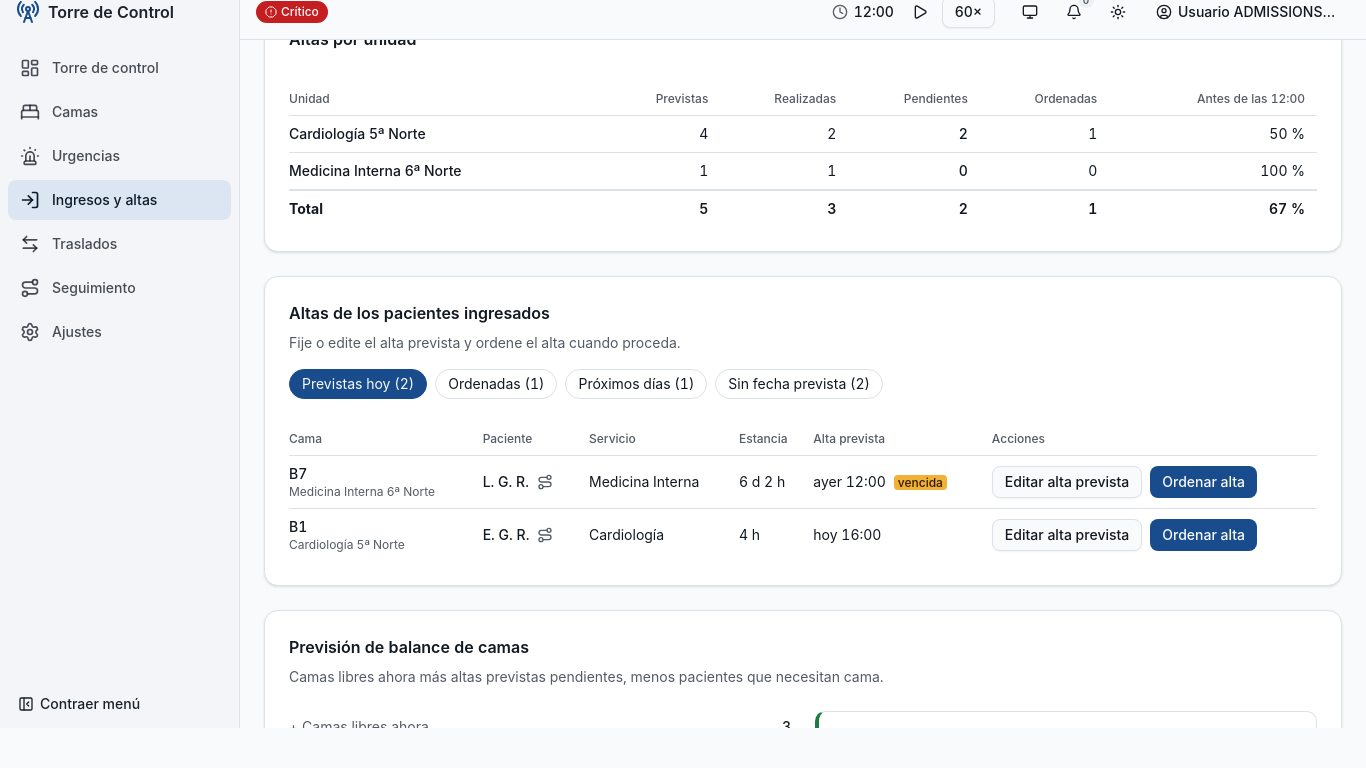
Test: discharge worklist (head) › sets an expected discharge from the sheet, as the user
(page scrolled)
Click the tab "Sin fecha prevista (2)".
click(799, 384)  # box [715, 369, 883, 399]
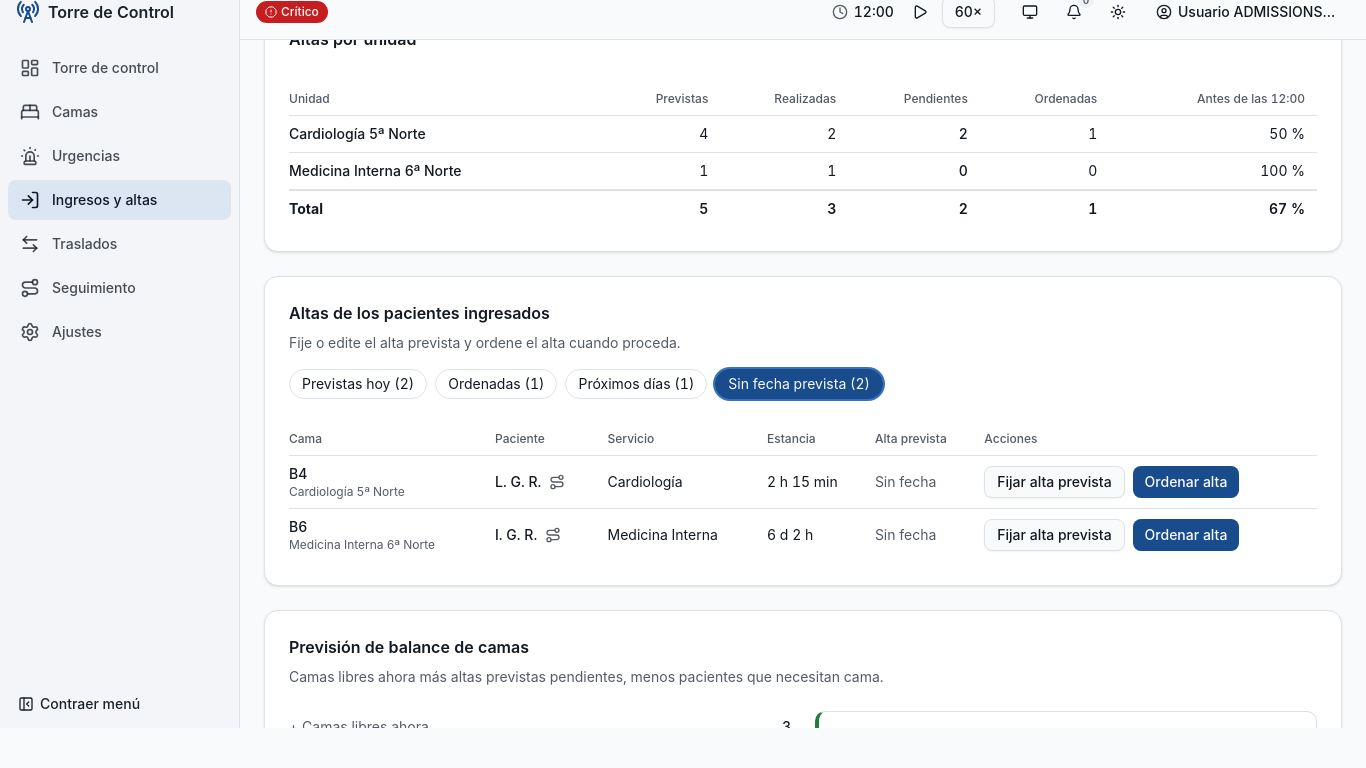
Click the button "Fijar alta prevista" in the row of "B6".
click(1054, 535)  # box [984, 519, 1125, 551]
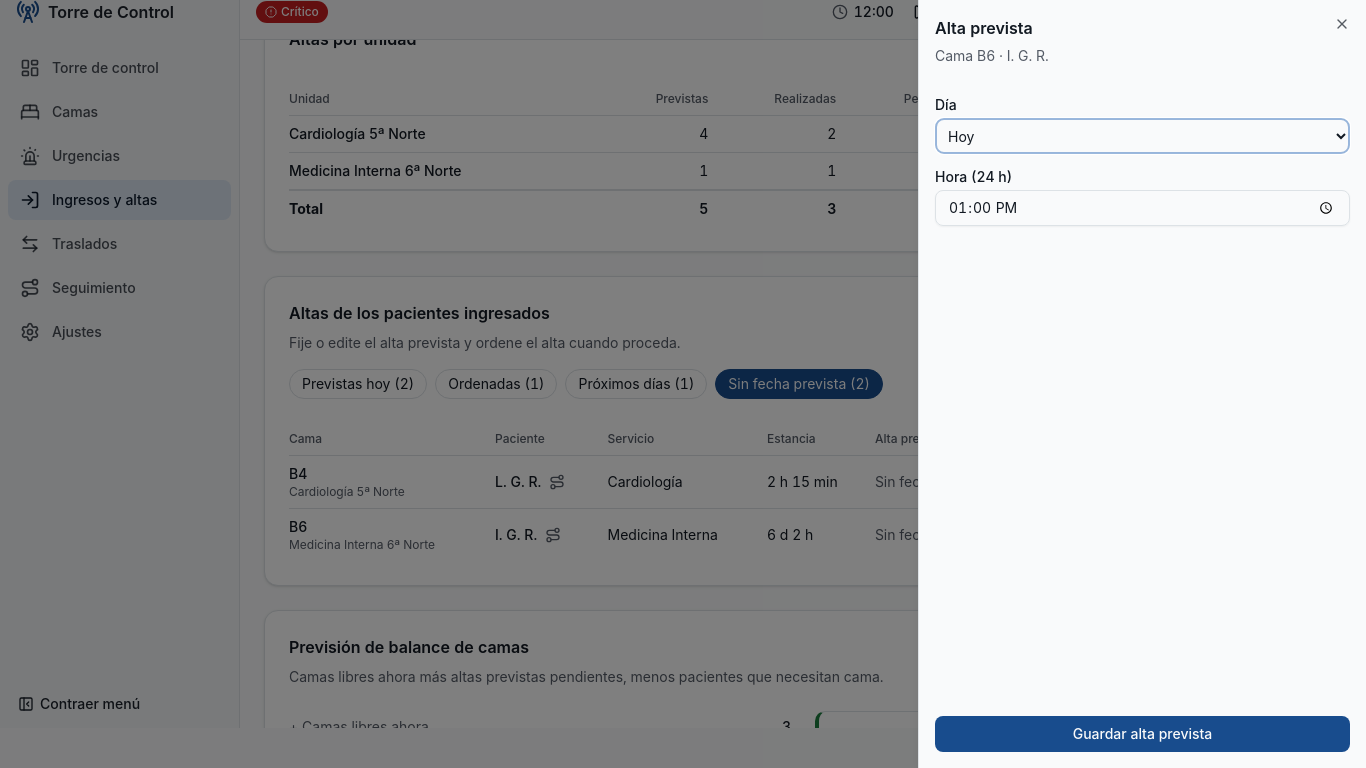
Select "Mañana" in the dropdown labelled "Día" at (1142, 136), box [935, 118, 1350, 154]
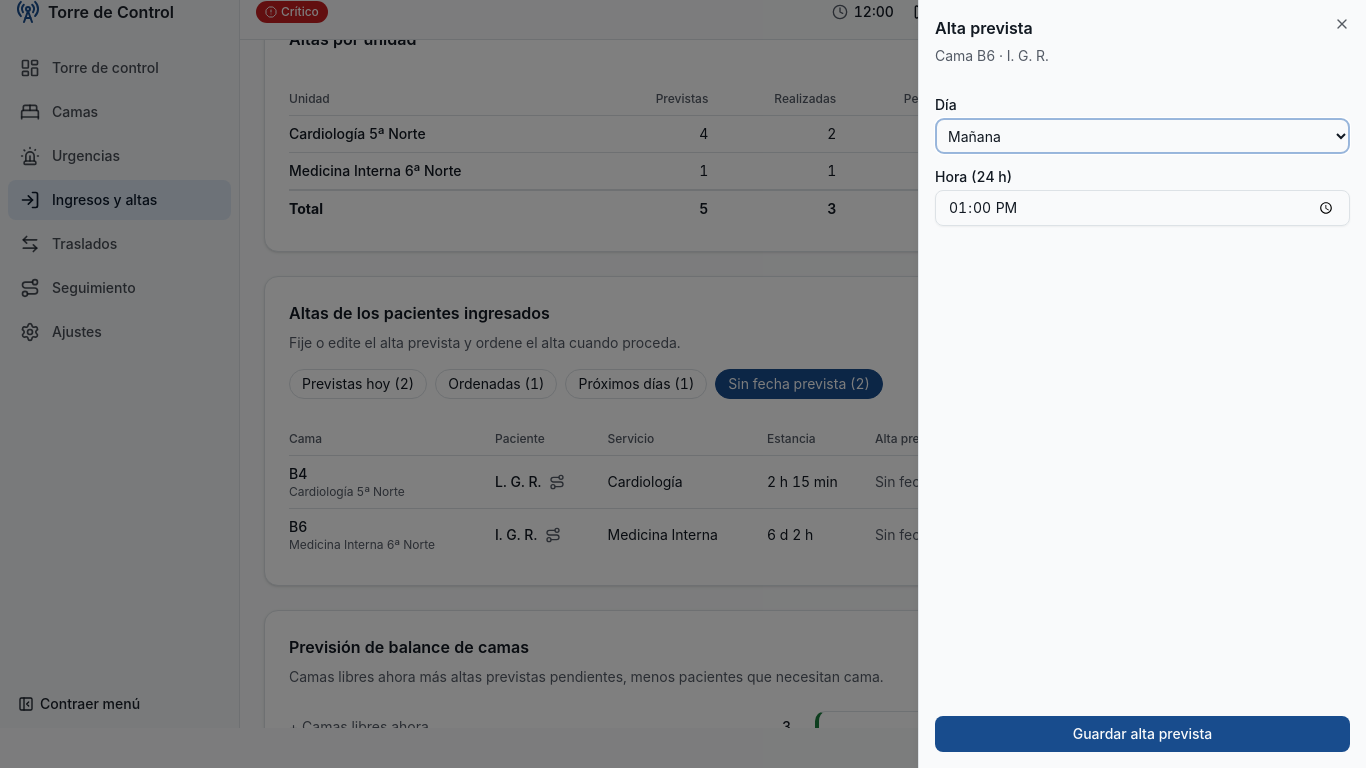
Replace the text in the time field labelled "Hora (24 h)" with "10:30" at (1142, 208), box [935, 190, 1350, 226]
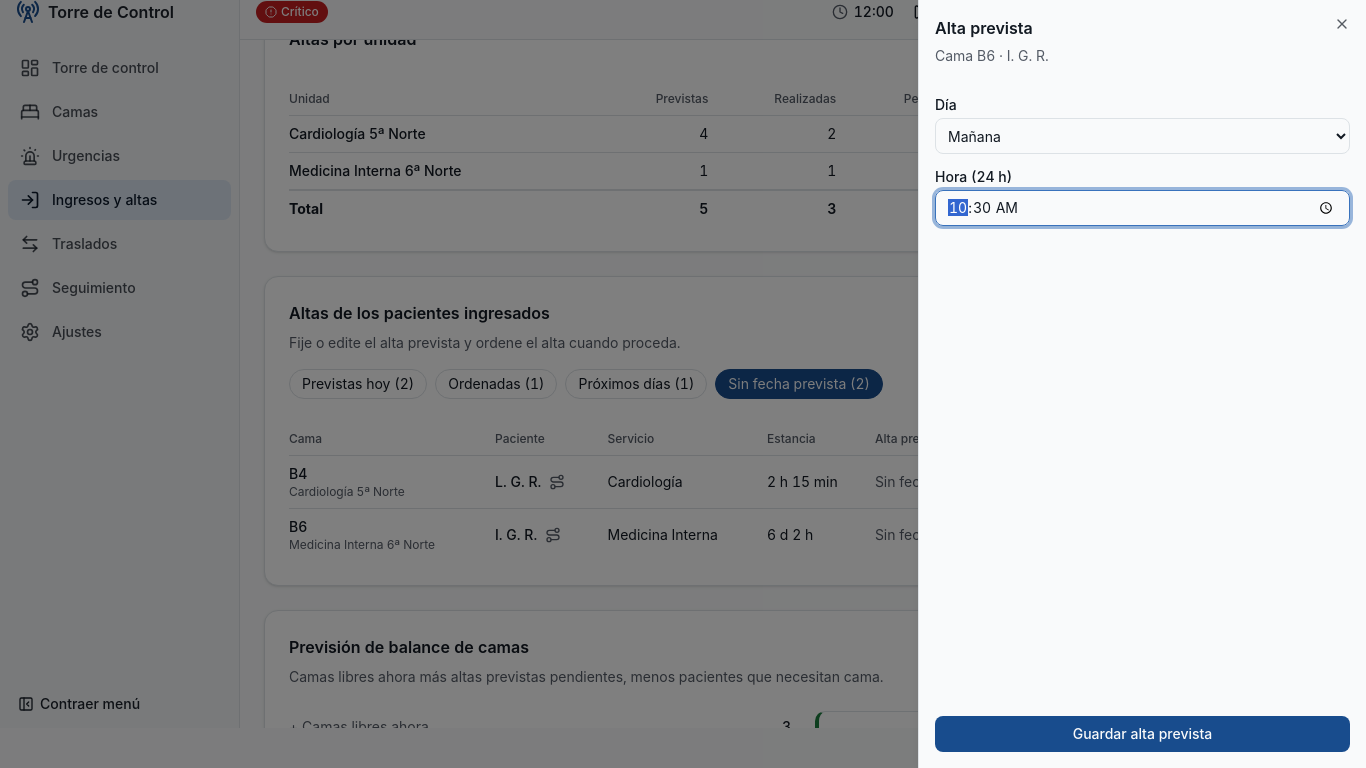
Click the button "Guardar alta prevista".
click(1142, 734)  # box [935, 716, 1350, 752]
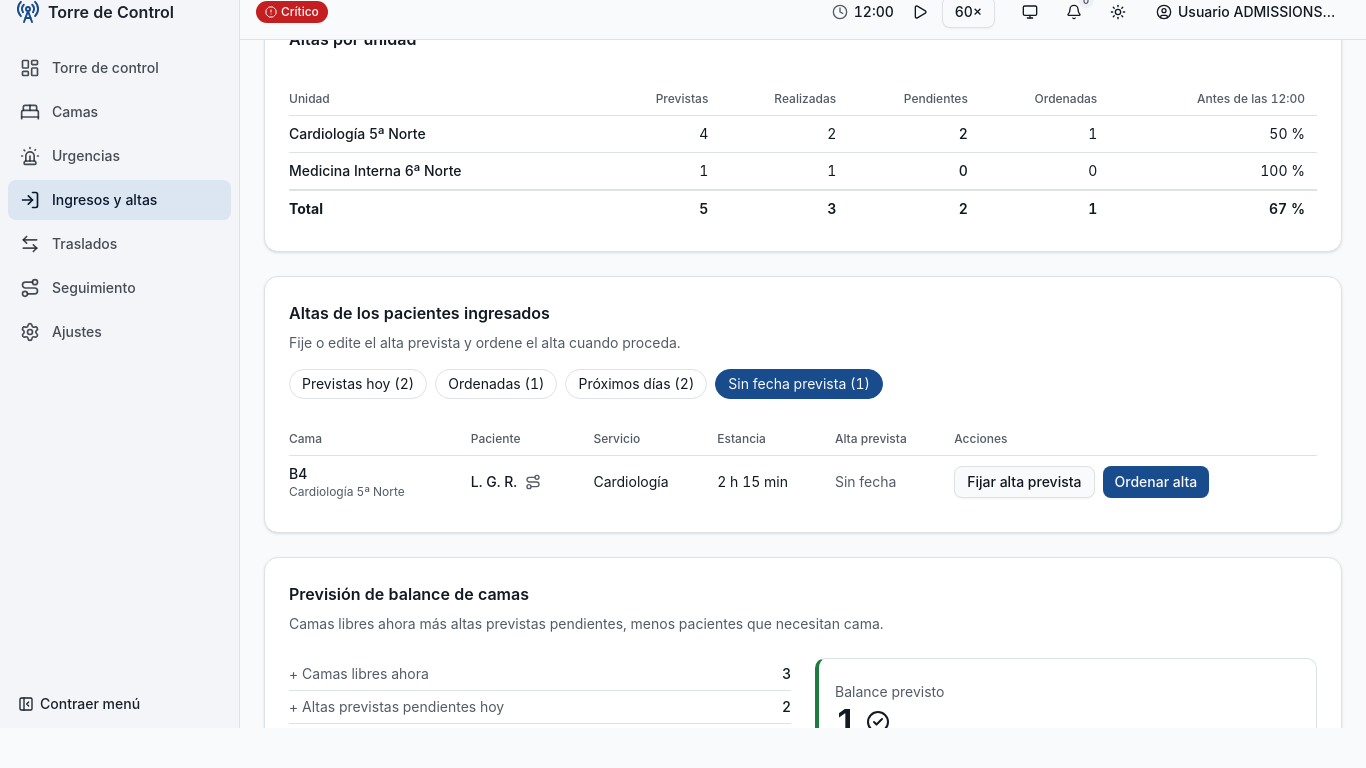
Expected: the dialog is gone
